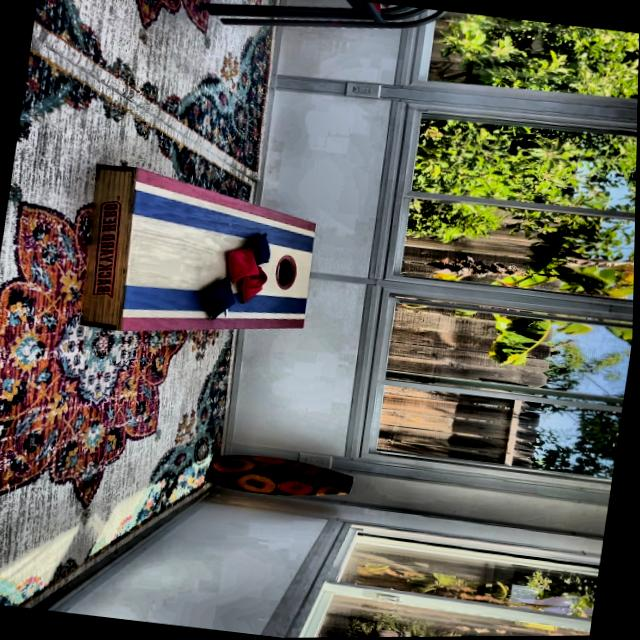blue-bean-bag: (202, 272, 240, 321), (249, 230, 275, 266)
board: (126, 189, 320, 337)
hole: (274, 253, 301, 291)
red-bean-bag: (225, 243, 264, 286), (239, 262, 271, 306)
